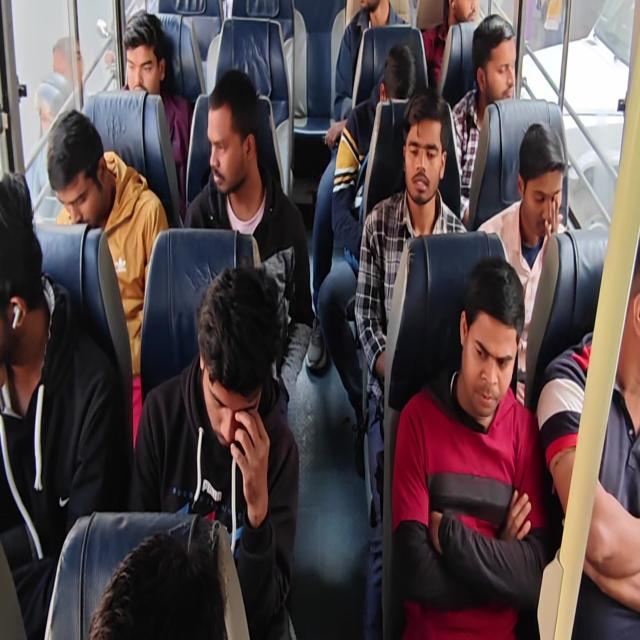person: (1, 1, 638, 638), (130, 264, 300, 638), (354, 87, 468, 638), (391, 256, 550, 638), (0, 170, 127, 638), (316, 42, 417, 474), (46, 109, 169, 449), (536, 232, 639, 638), (183, 68, 314, 386), (476, 121, 568, 406), (331, 42, 416, 258), (120, 9, 193, 218), (87, 531, 228, 639), (450, 13, 517, 223), (325, 0, 410, 153), (421, 0, 479, 91), (24, 81, 63, 211), (52, 35, 115, 110)
